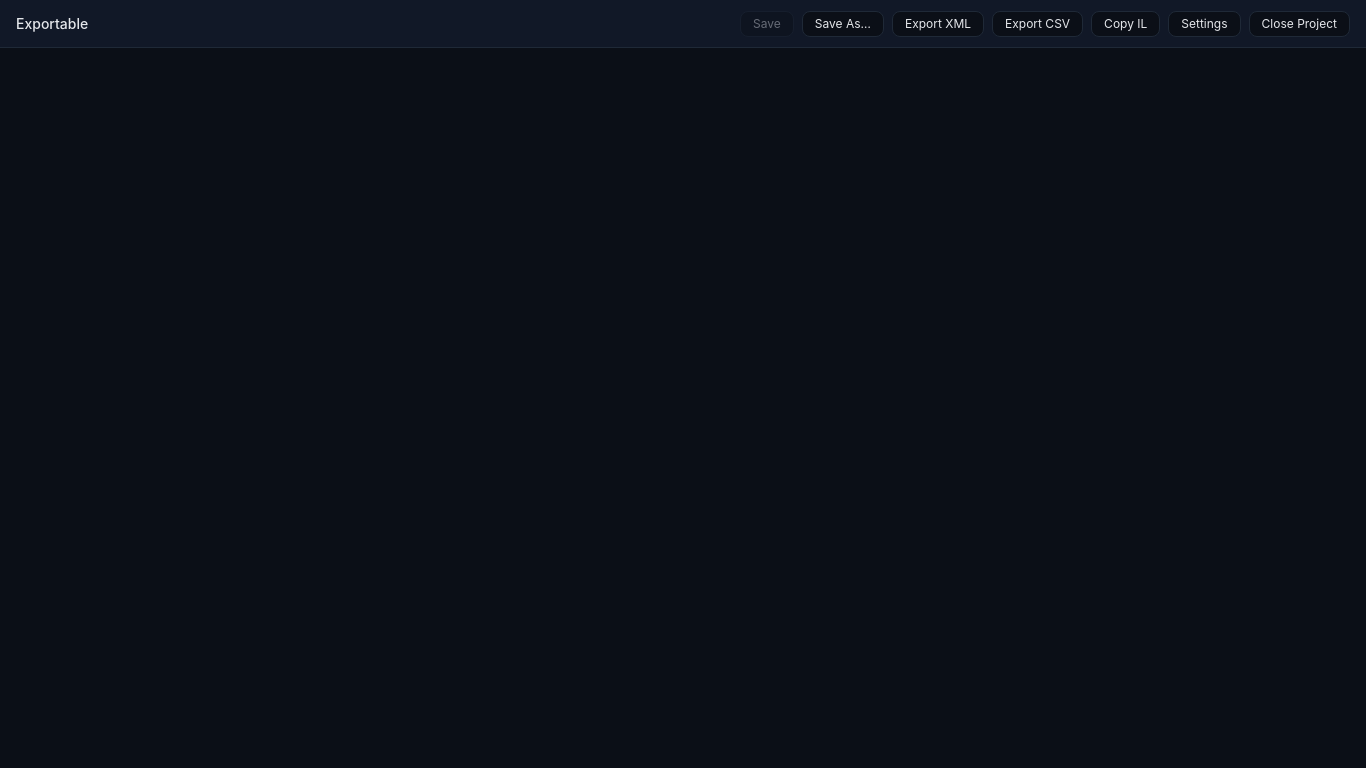
Test case: ProjectToolbar error toasts (replaces window.alert) › Copy IL failure shows an error toast
Click the button with test id "copy-il-btn" at (1126, 24), box [1091,10,1160,36]
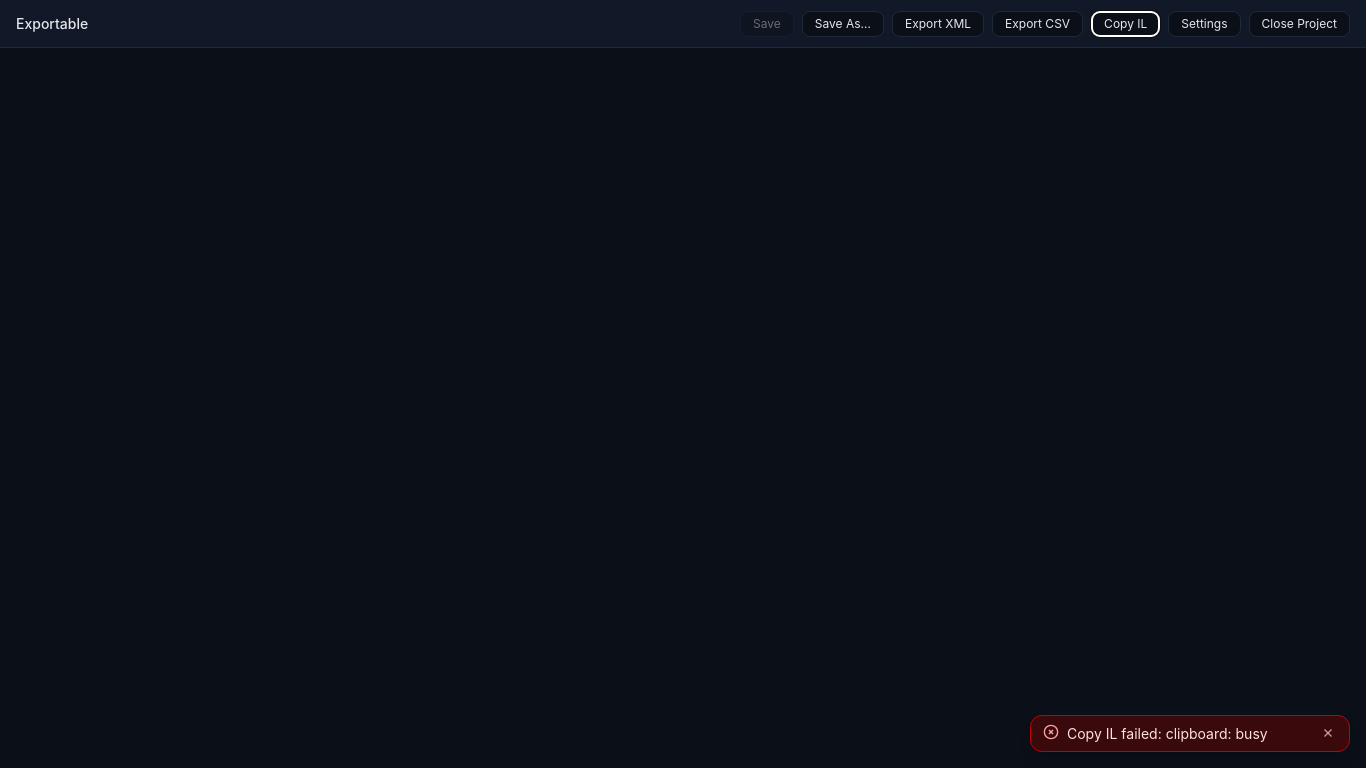
expect the message with test id "toast-error" shows "Copy IL failed": met, box [1067,725,1268,742]
expect the message with test id "toast-error" shows "clipboard: busy": met, box [1067,725,1268,742]
